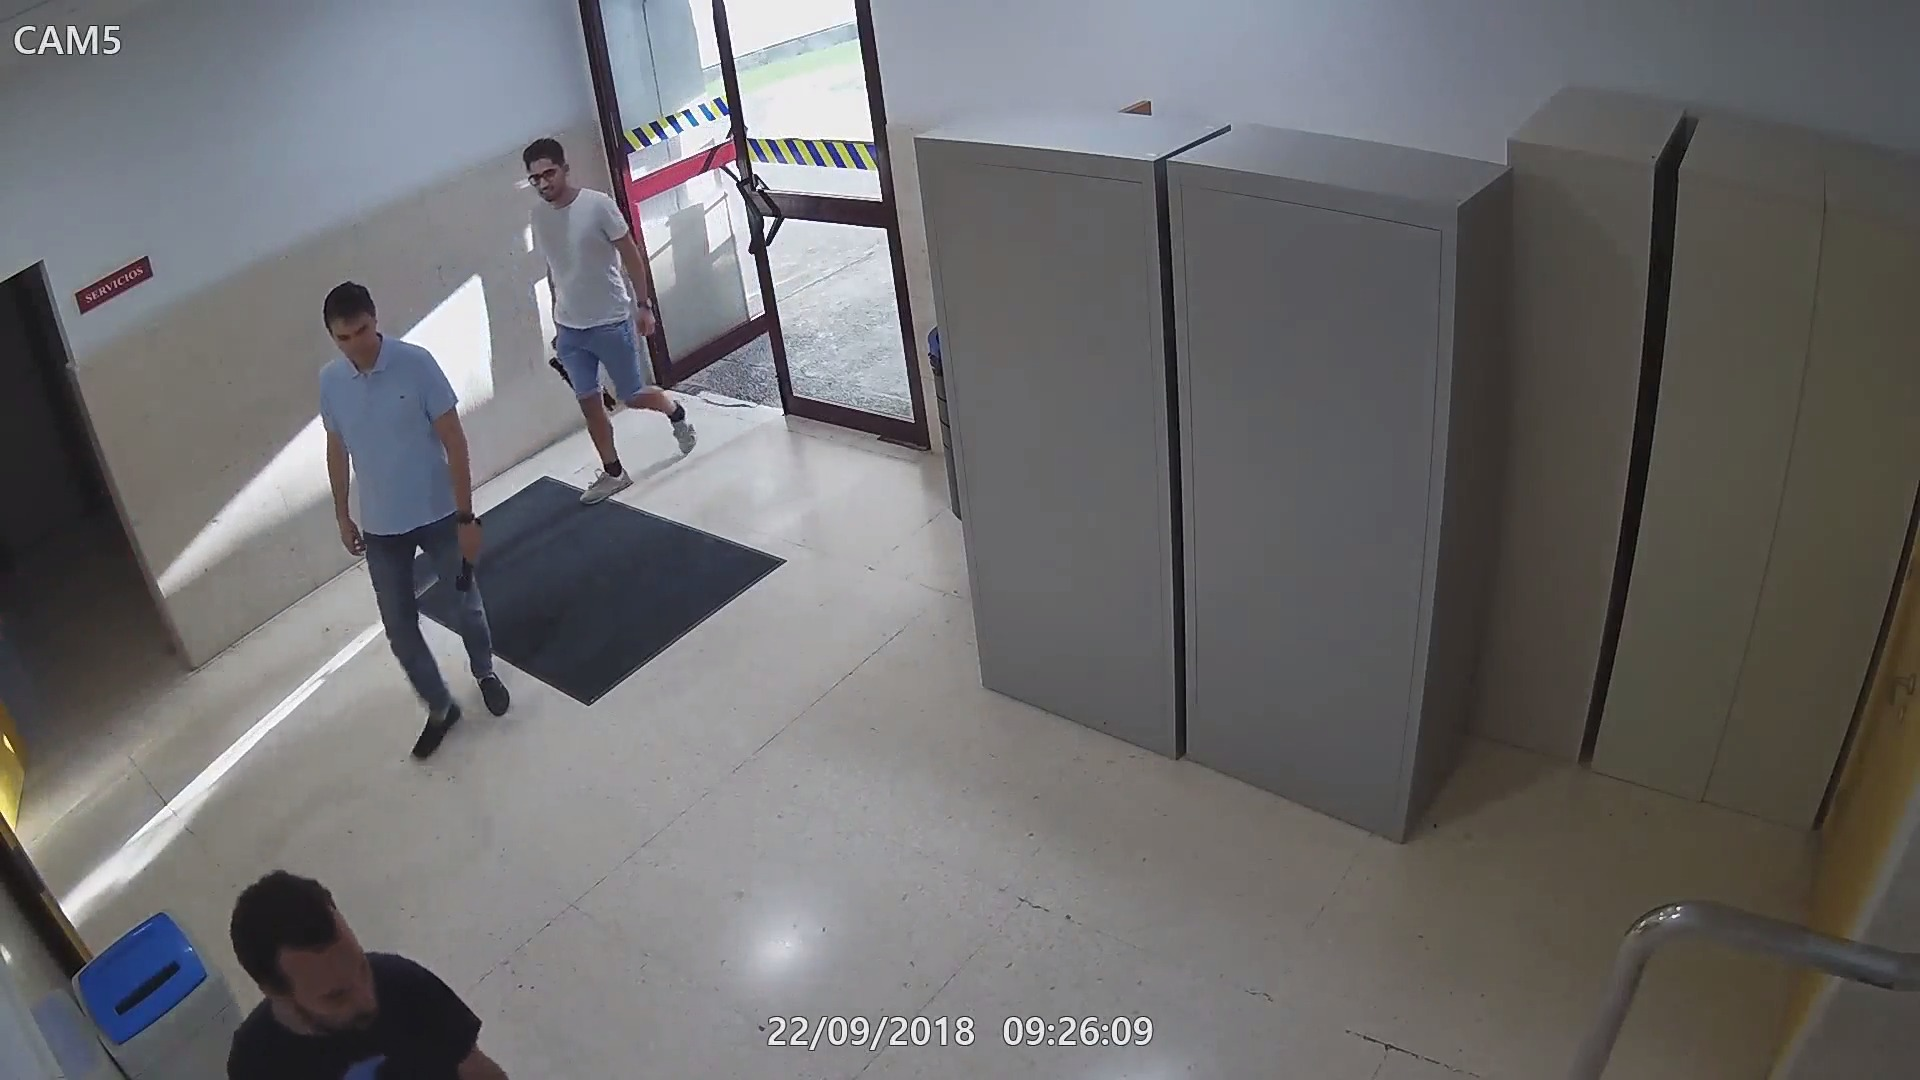Short_rifle: (546, 331, 622, 425)
